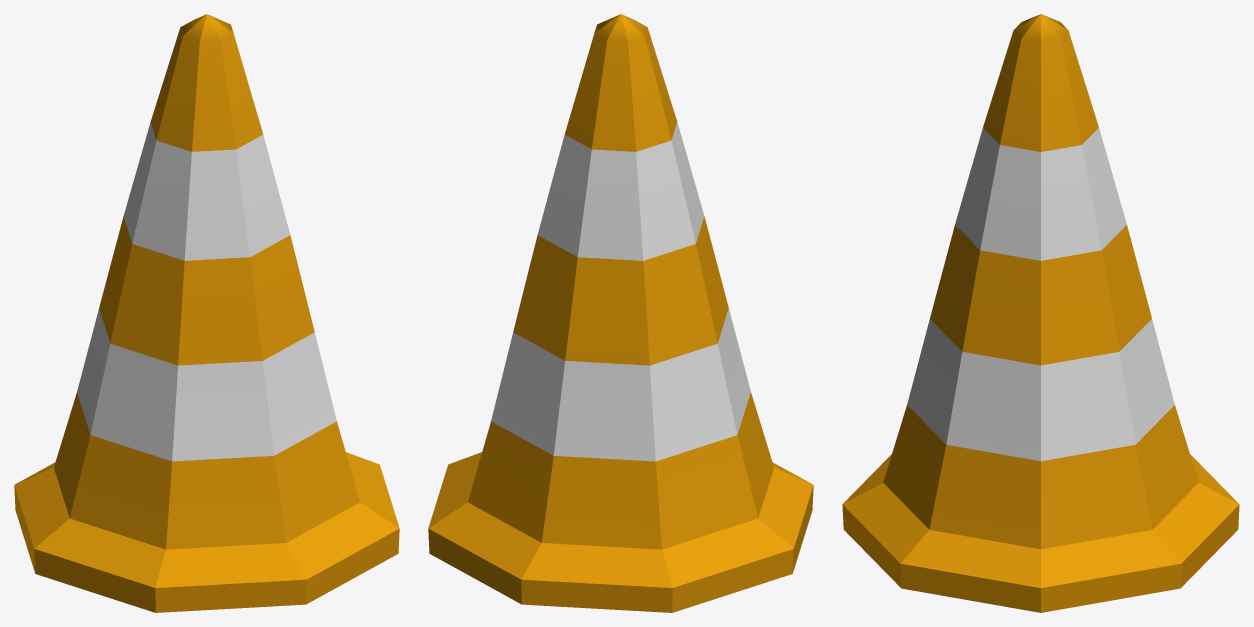
The model's file is TrafficCone.fbx.
The picture shows the model from 3 angles, left to right: view 1: azimuth 30°, elevation 25°; view 2: azimuth 150°, elevation 25°; view 3: azimuth 270°, elevation 25°; orthographic projection.
Visible parts, largest first — view 1: TrafficCone; view 2: TrafficCone; view 3: TrafficCone.
Boxes of the visible parts, bbox=[...] form: TrafficCone: bbox=[14, 14, 399, 612]; TrafficCone: bbox=[428, 14, 813, 612]; TrafficCone: bbox=[842, 14, 1239, 612].
Bounding box in the file's own units: 2.12 × 3.04 × 2.12.
